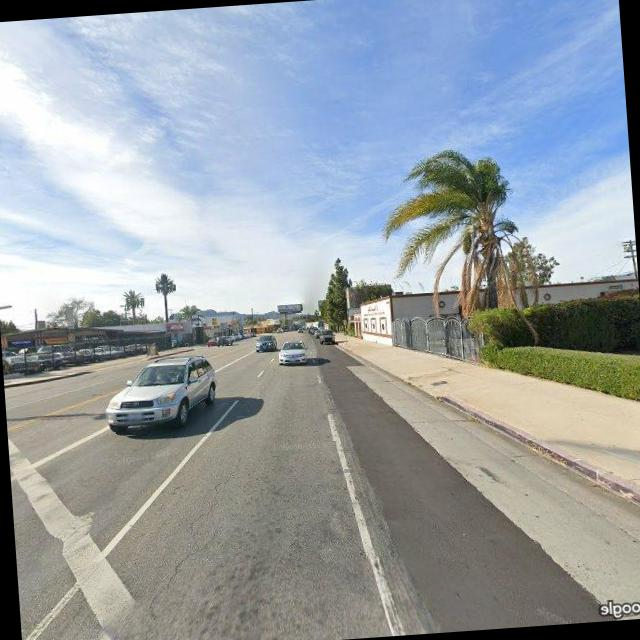crack: (136, 458, 255, 610)
